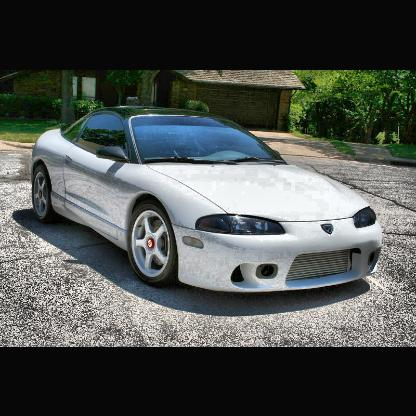Eagle Talon Hatchback 1998: (33, 104, 384, 293)
